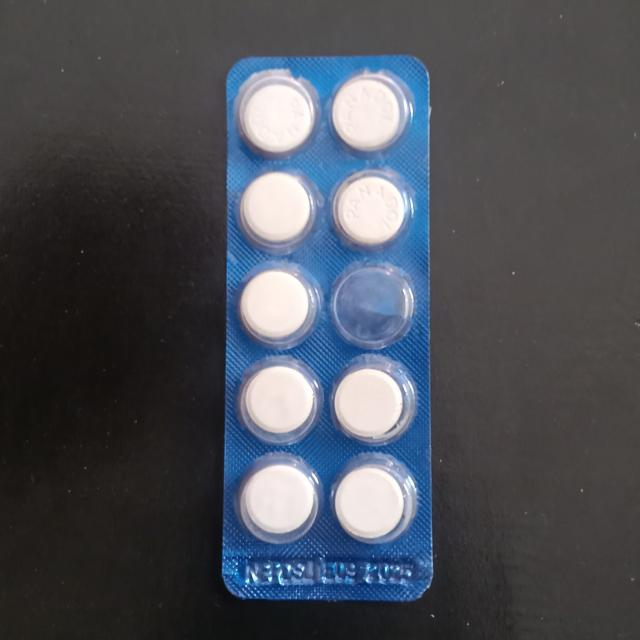defect: (328, 255, 423, 354)
